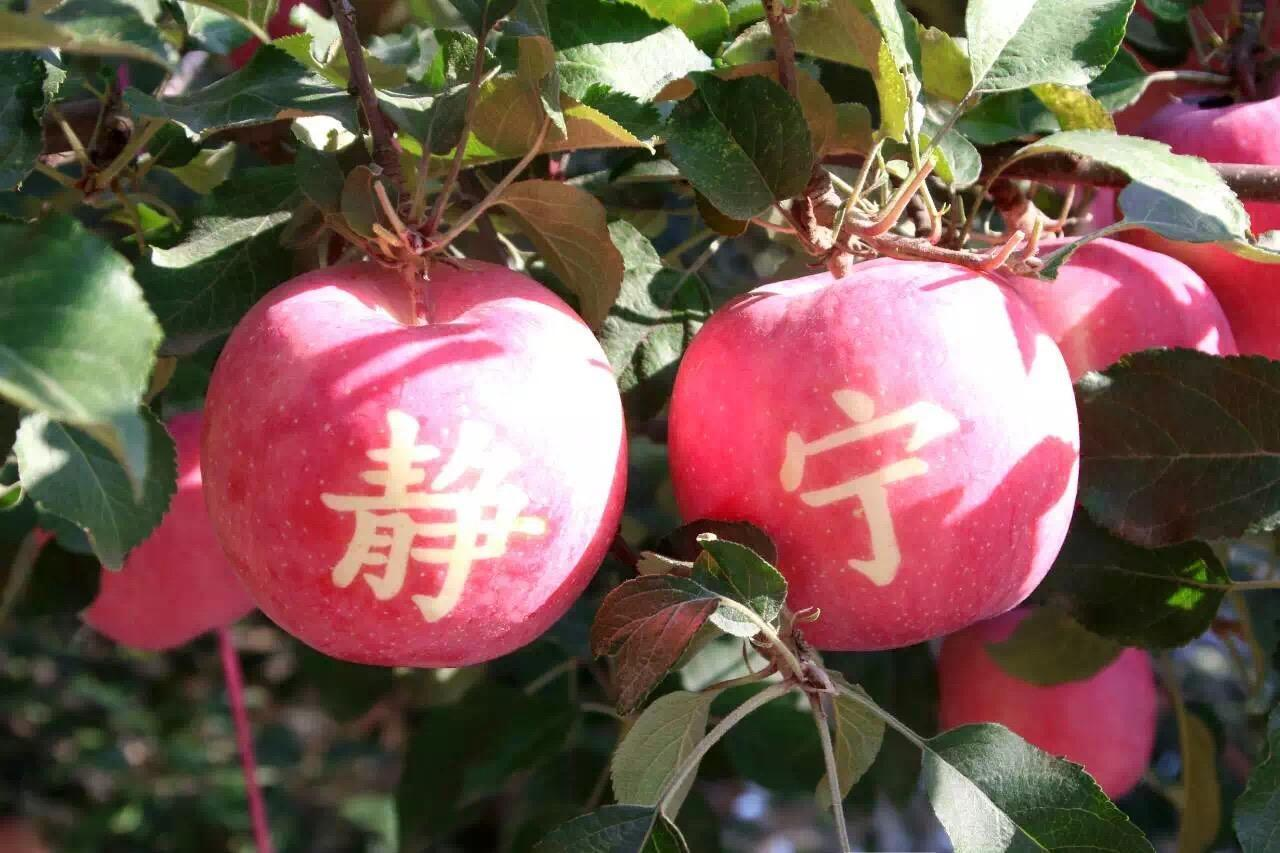apple: (203, 256, 625, 664), (659, 274, 1079, 657)
